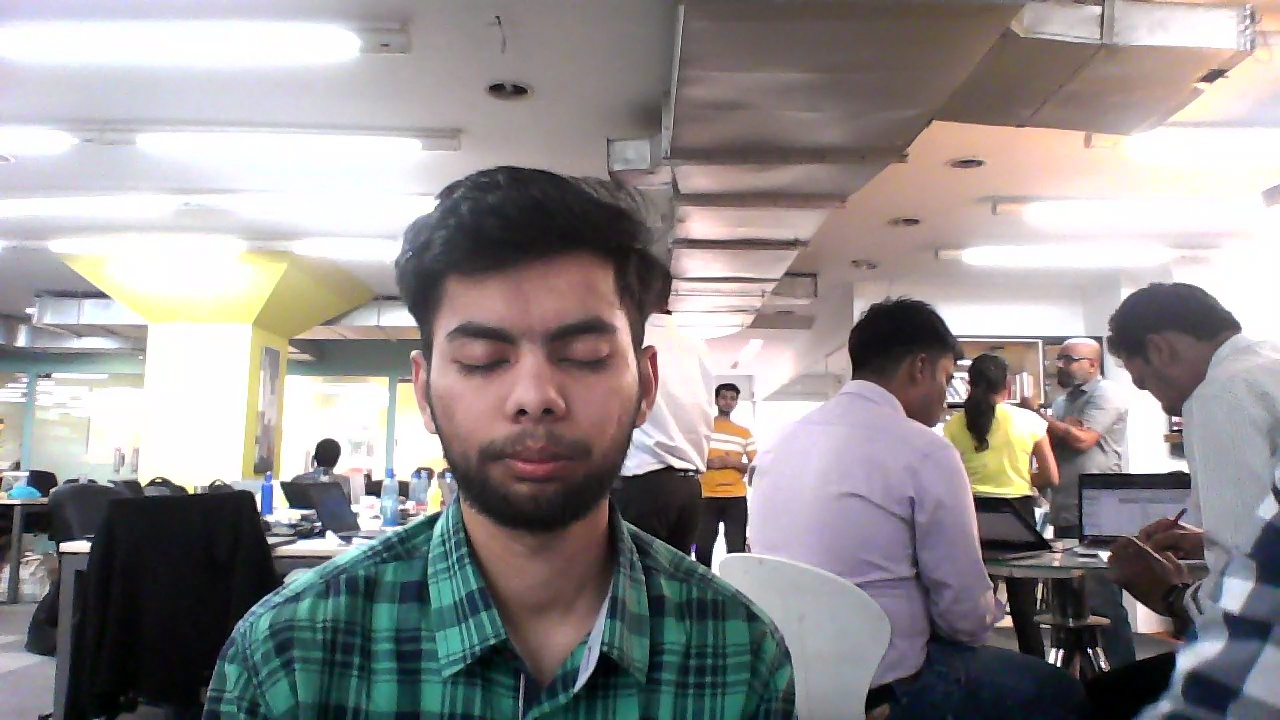closed: (394, 170, 663, 515)
